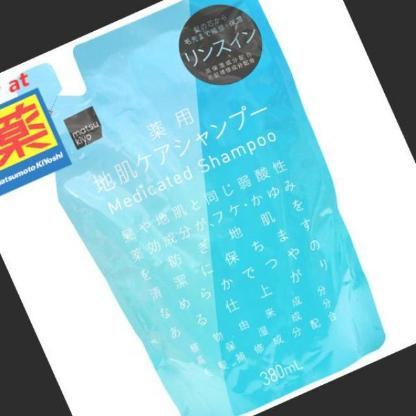Plastic Packaging: (19, 1, 386, 414)
